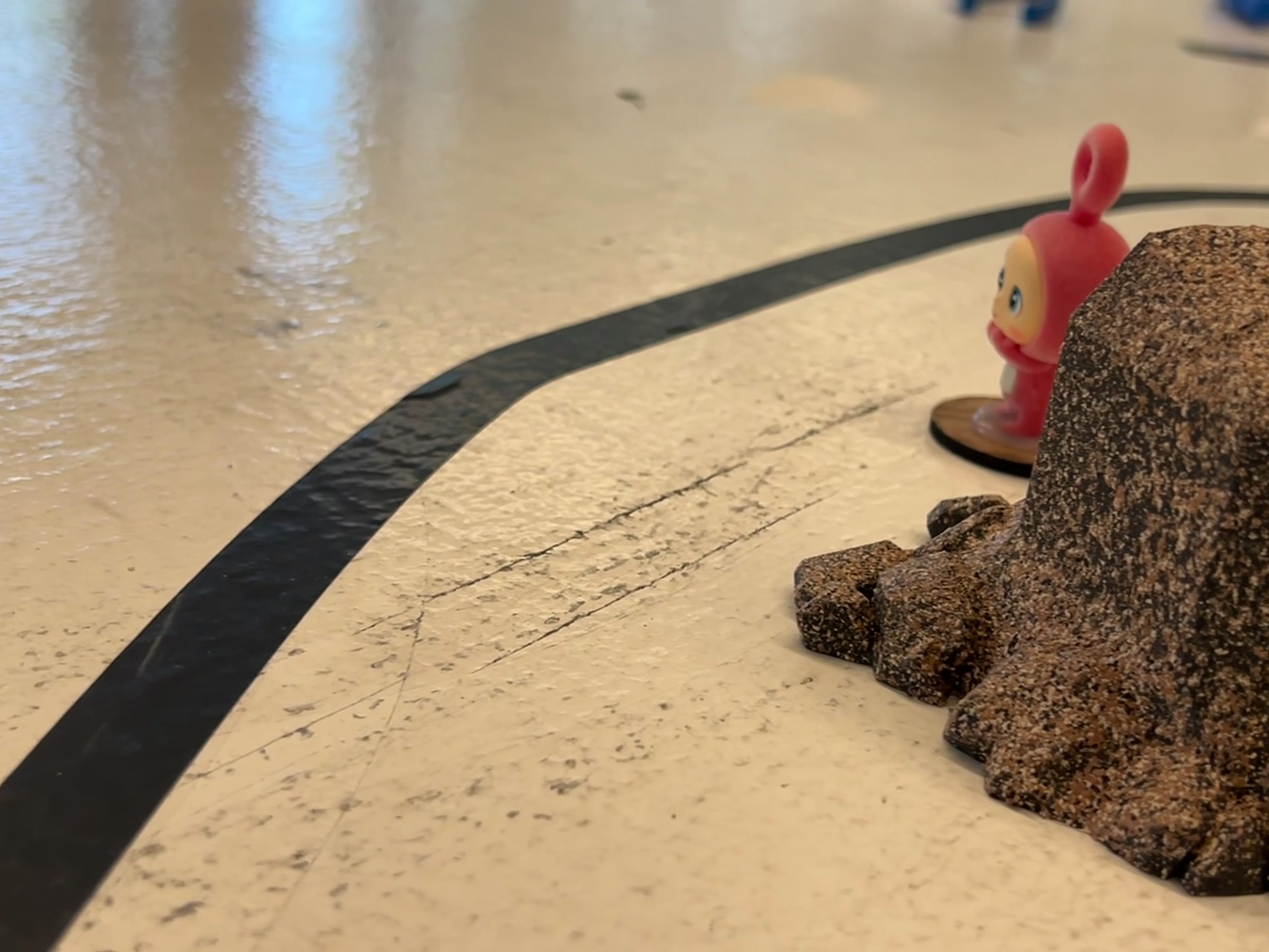teletubby: (987, 124, 1128, 437)
